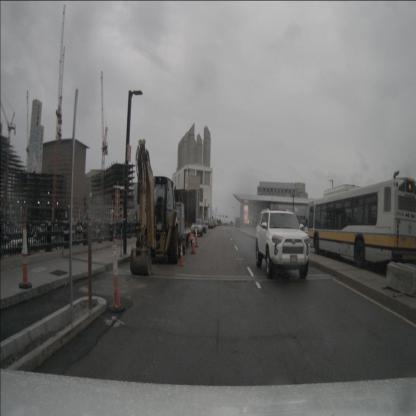cone: (108, 235, 124, 314), (18, 218, 32, 290), (178, 242, 185, 266), (190, 234, 196, 254), (194, 228, 199, 248)
